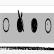correct: (31, 16, 38, 34)
not correct: (16, 8, 25, 34)
